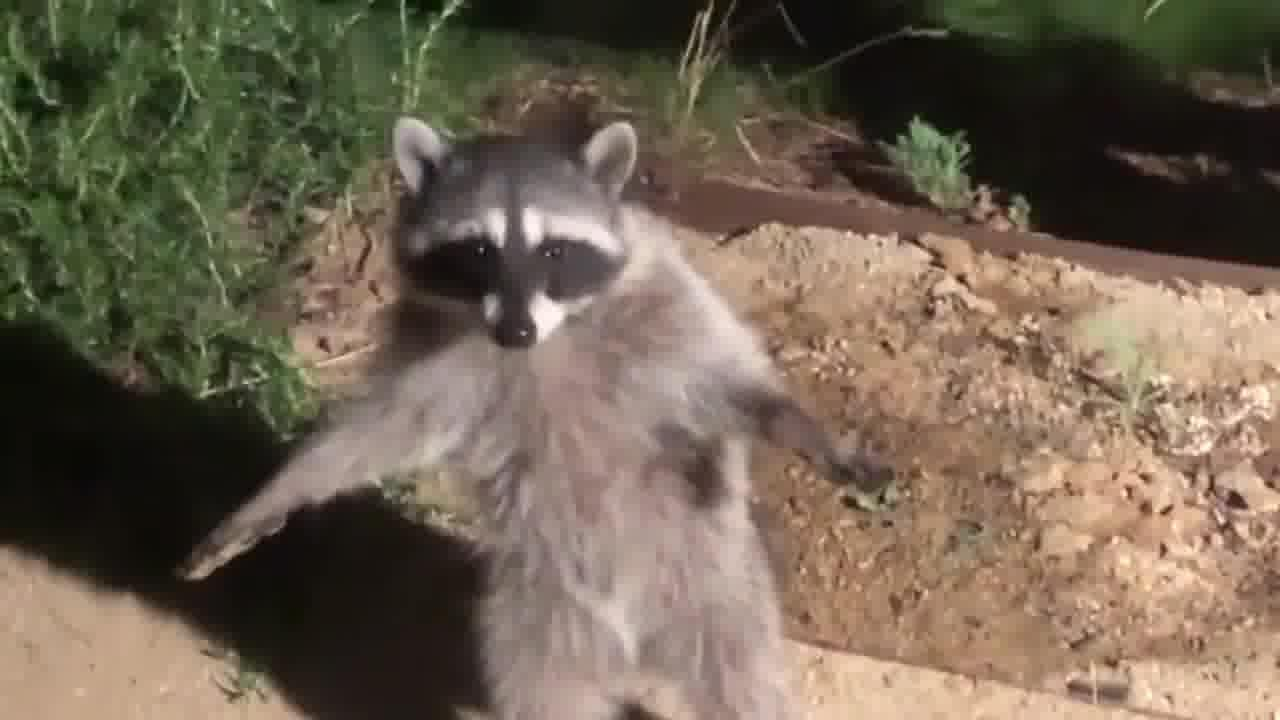raccoon: (191, 111, 891, 720)
